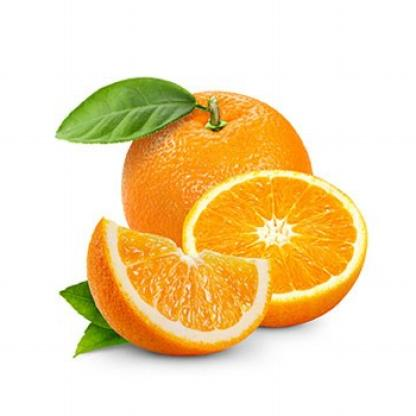orange: (112, 92, 324, 294)
